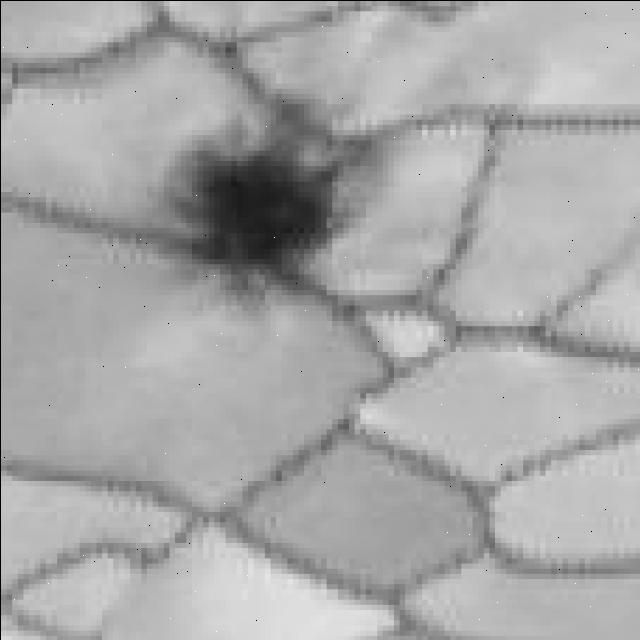good_void: (164, 125, 347, 311)
